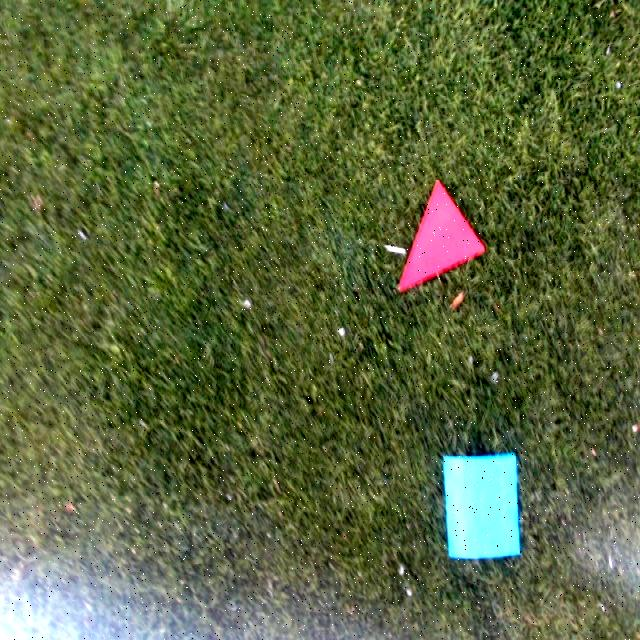blue_square: (444, 452, 520, 556)
red_triangle: (399, 180, 483, 290)
